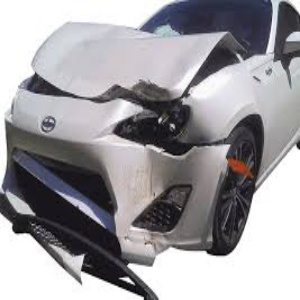bonnet: (58, 18, 232, 97)
bumper: (108, 141, 227, 263)
